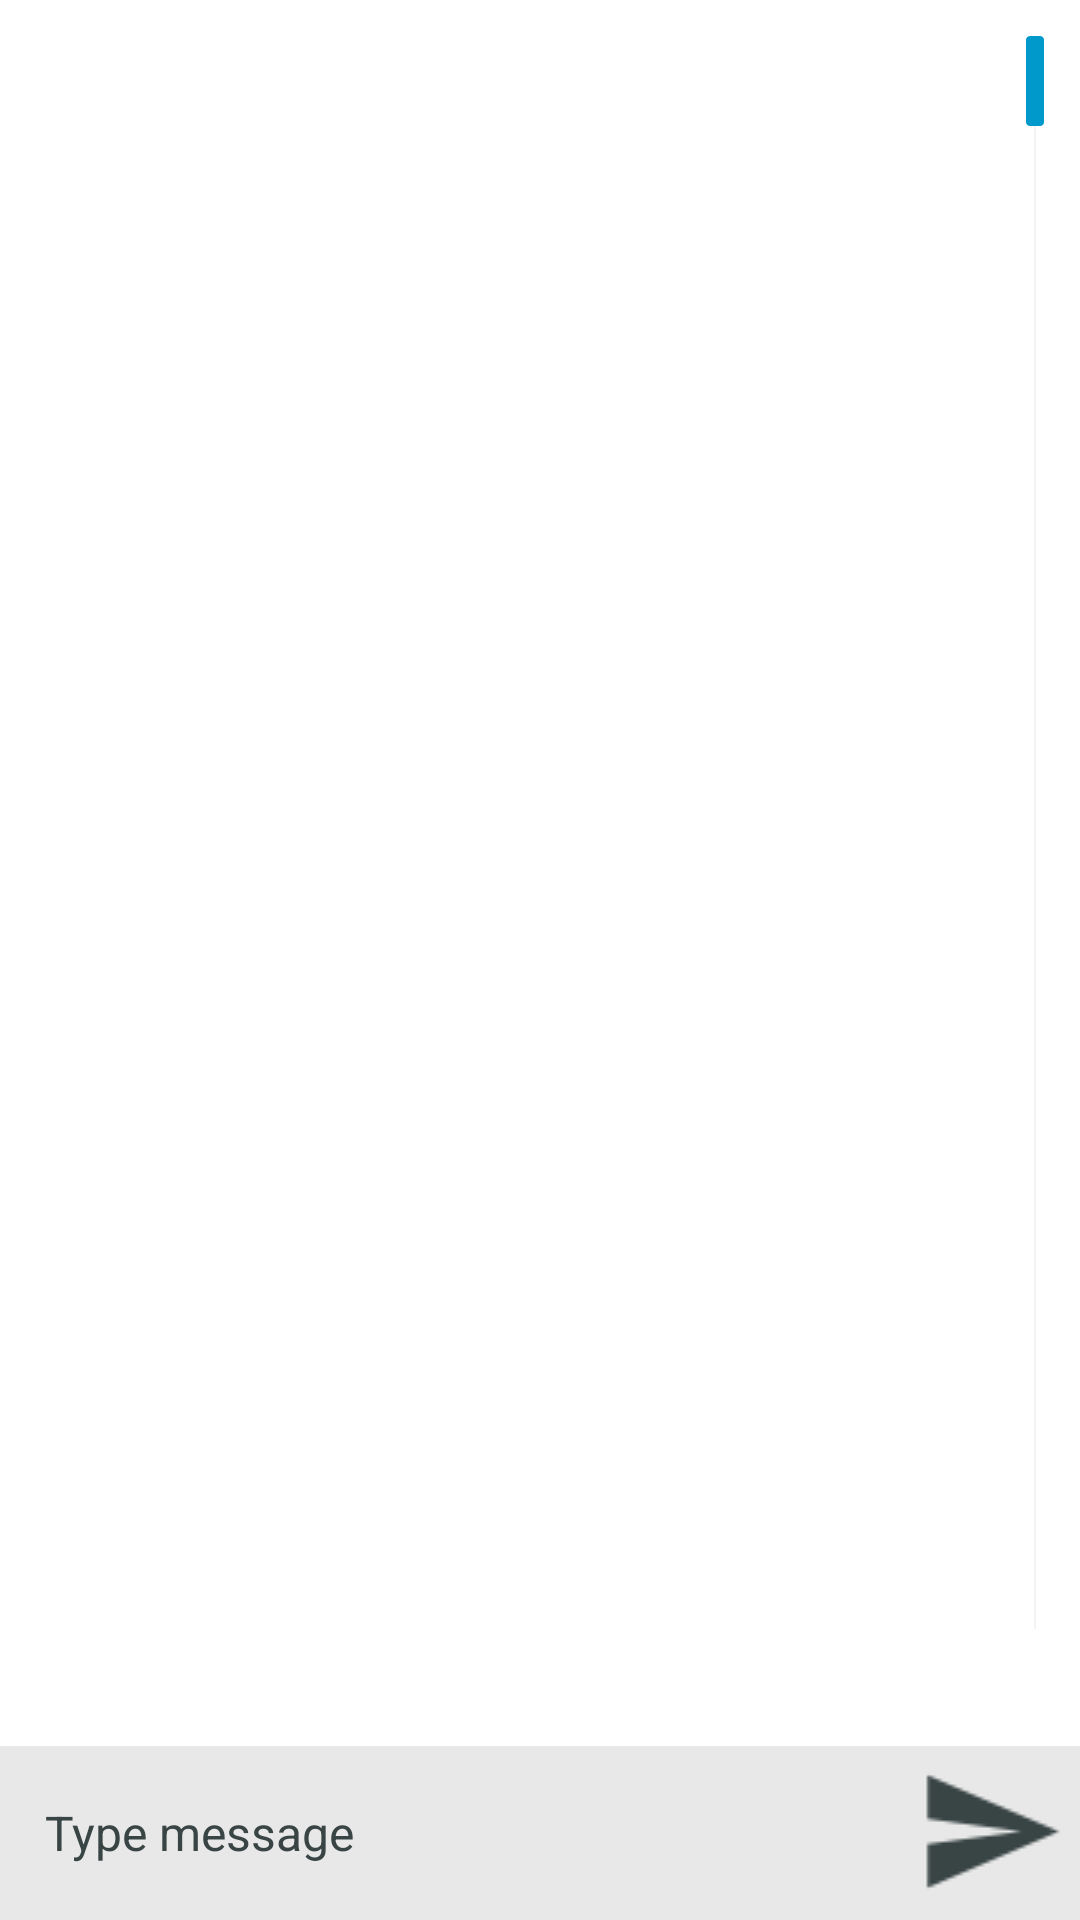

Icons on this 1080w x 1920h Android screen, each with its box as detection(x1, y1, x2, y2):
send: detection(926, 1775, 1059, 1888)
